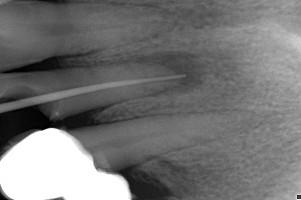Furcation Involvement: (110, 50, 212, 96)
